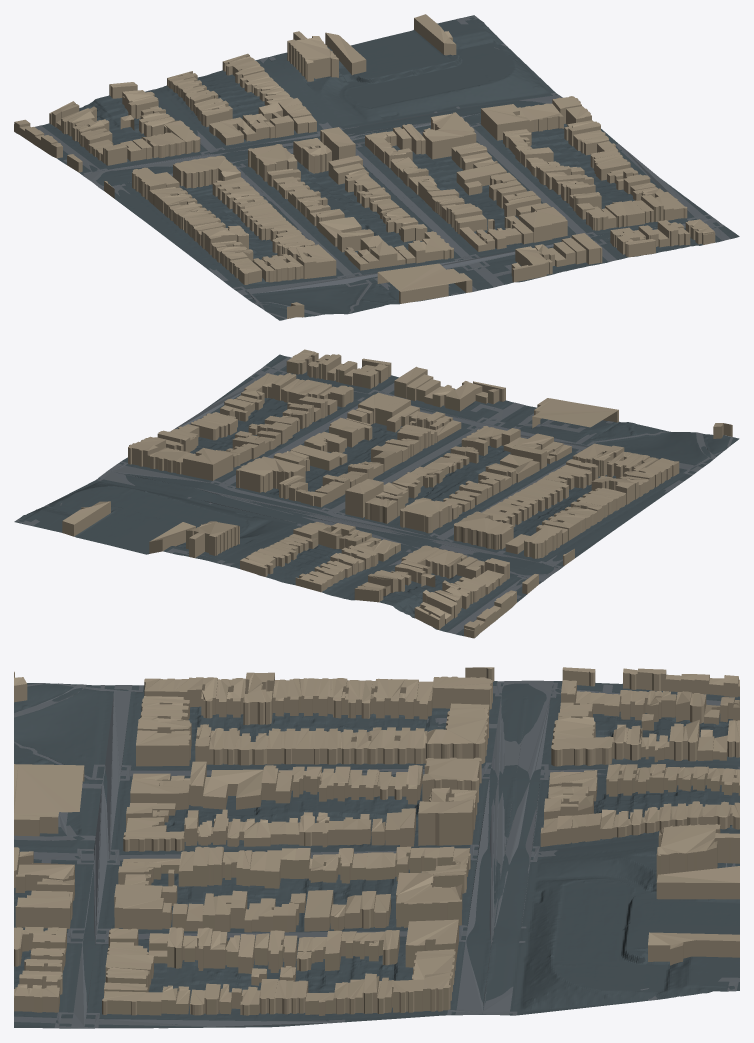
The model's file is epsg26910-1418-10889.lod0.glb.
3 renders of one model, top to bottom at view 1: azimuth 30°, elevation 25°; view 2: azimuth 150°, elevation 25°; view 3: azimuth 270°, elevation 25°, orthographic. The views are drawn at different scales.
Visible parts, largest first — view 1: epsg26910-1418-10889-lod0; view 2: epsg26910-1418-10889-lod0; view 3: epsg26910-1418-10889-lod0.
Part boxes in pixels (box(x1,y1,x2,y2)): epsg26910-1418-10889-lod0: box(14, 14, 739, 320); epsg26910-1418-10889-lod0: box(14, 349, 739, 638); epsg26910-1418-10889-lod0: box(14, 667, 739, 1028).
Bounding box in the file's own units: 384 × 43.5 × 384.
